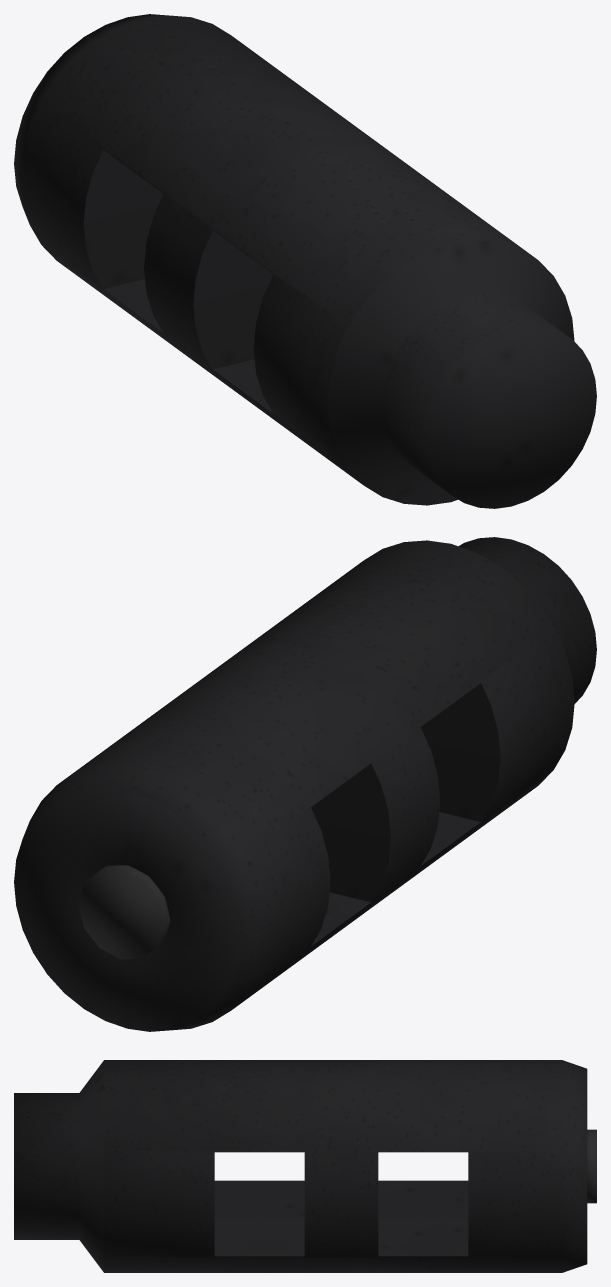
File: muzzle_brake.glb
The picture shows the model from 3 angles, top to bottom: view 1: azimuth 30°, elevation 25°; view 2: azimuth 150°, elevation 25°; view 3: azimuth 270°, elevation 25°; orthographic projection. The views are drawn at different scales.
Parts seen in each view (by area): view 1: body; view 2: body, bore; view 3: body, bore.
Boxes of the visible parts, x1,y1,x2,y2 form: body: (14, 14, 596, 508); body: (14, 537, 596, 1031); bore: (78, 865, 170, 959); body: (14, 1060, 587, 1272); bore: (587, 1129, 596, 1203).
Bounding box in the file's own units: 0.026 × 0.026 × 0.0712.
Materials: 2 (1 with a texture image).
